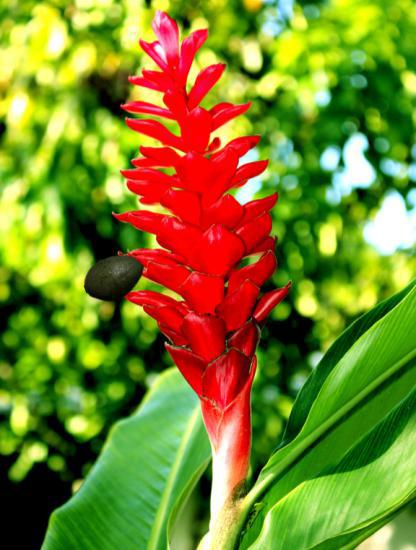Avocado: (83, 247, 147, 311)
